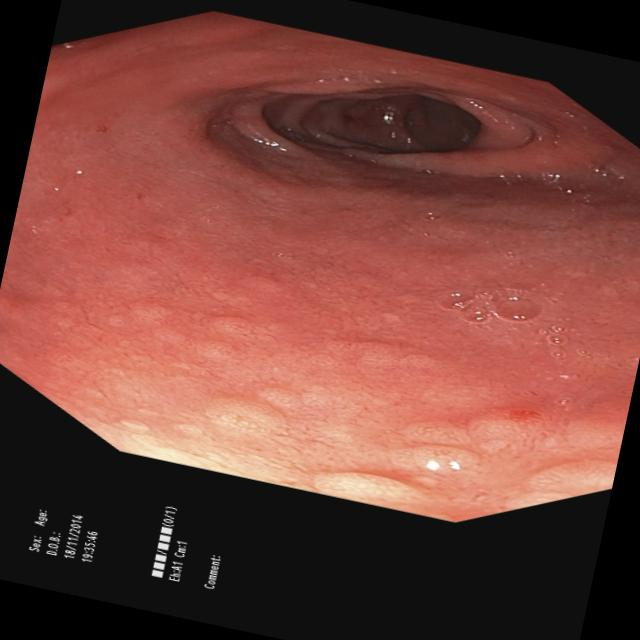ulcerative-colities: (95, 338, 618, 523)
